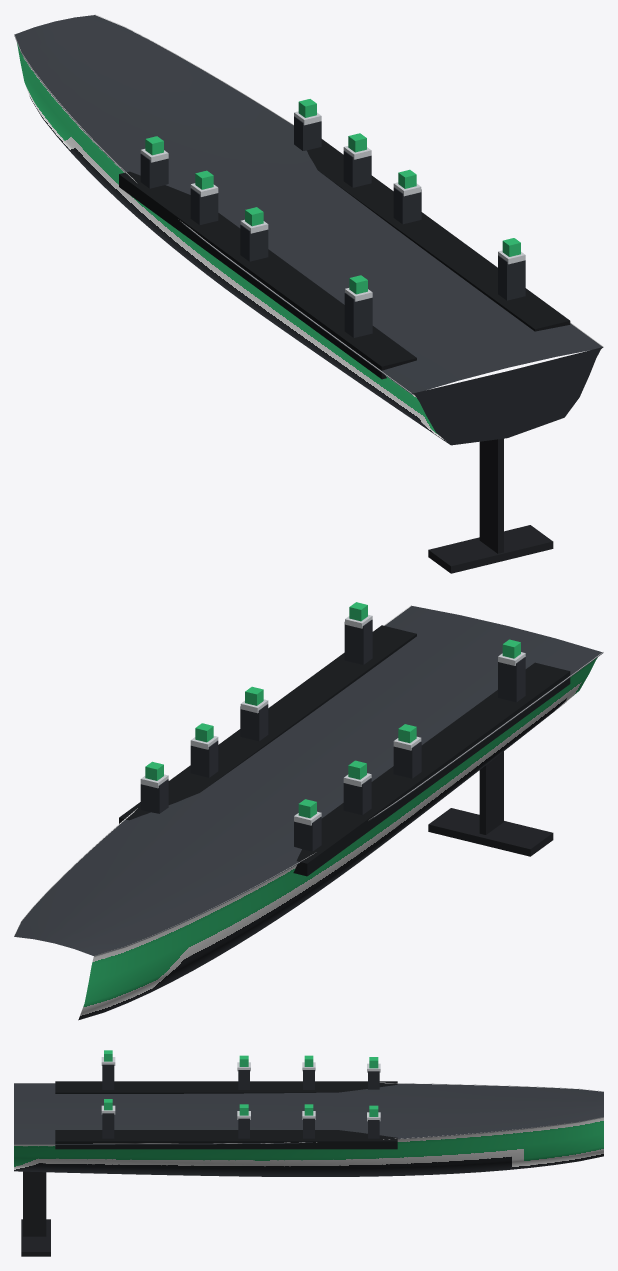
The model's file is hull_3.glb.
3 renders of one model, top to bottom at view 1: azimuth 30°, elevation 25°; view 2: azimuth 150°, elevation 25°; view 3: azimuth 270°, elevation 25°, orthographic. The views are drawn at different scales.
Visible parts, largest first — view 1: hull_3_body; view 2: hull_3_body; view 3: hull_3_body.
Part boxes in pixels (x1,y1,x2,y2): hull_3_body: (14, 14, 603, 573); hull_3_body: (14, 602, 603, 1020); hull_3_body: (14, 1050, 603, 1256).
Size of the model in its own units: 4.9 by 6.13 by 20.
1 material, 1 textured.
